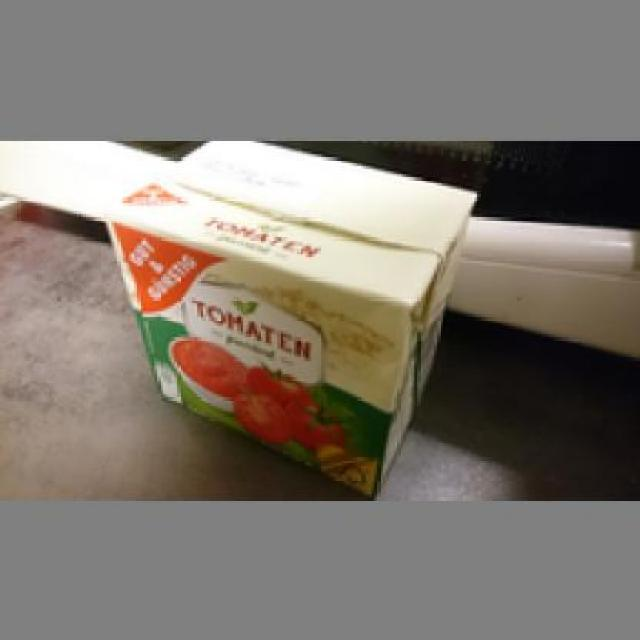Tomato Sauce: (100, 137, 474, 494)
